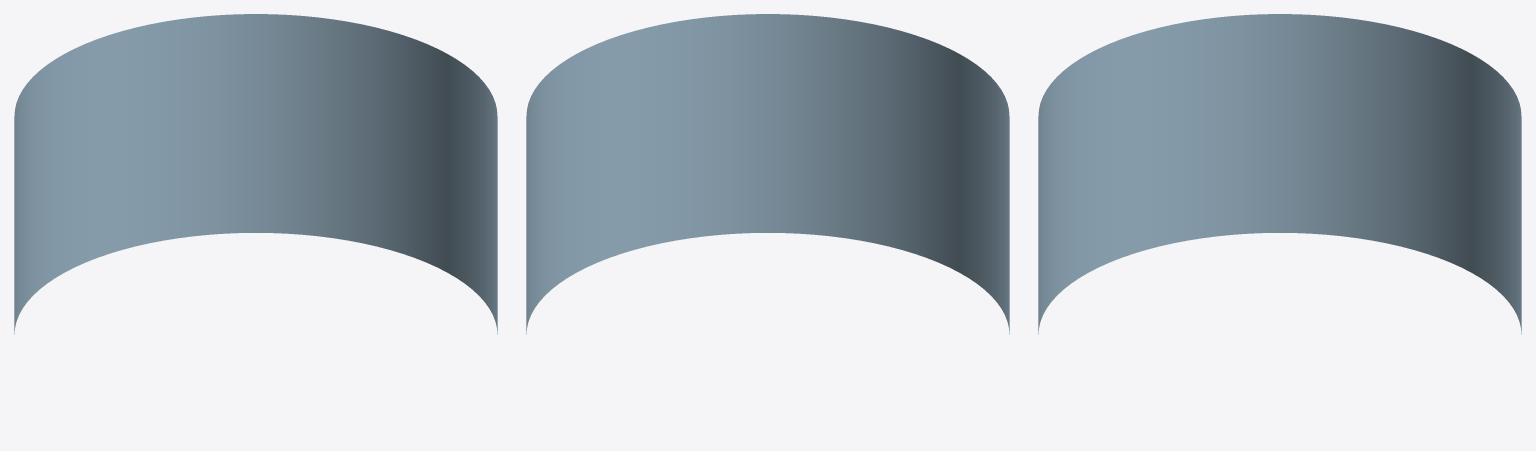
Rendered from water-haze.glb.
The picture shows the model from 3 angles, left to right: view 1: azimuth 30°, elevation 25°; view 2: azimuth 150°, elevation 25°; view 3: azimuth 270°, elevation 25°; orthographic projection.
Visible parts, largest first — view 1: Haze; view 2: Haze; view 3: Haze.
Part boxes in pixels (box(x1,y1,x2,y2)): Haze: box(14, 14, 497, 334); Haze: box(526, 14, 1009, 334); Haze: box(1038, 14, 1521, 334).
Size of the model in its own units: 2 by 1 by 2.
